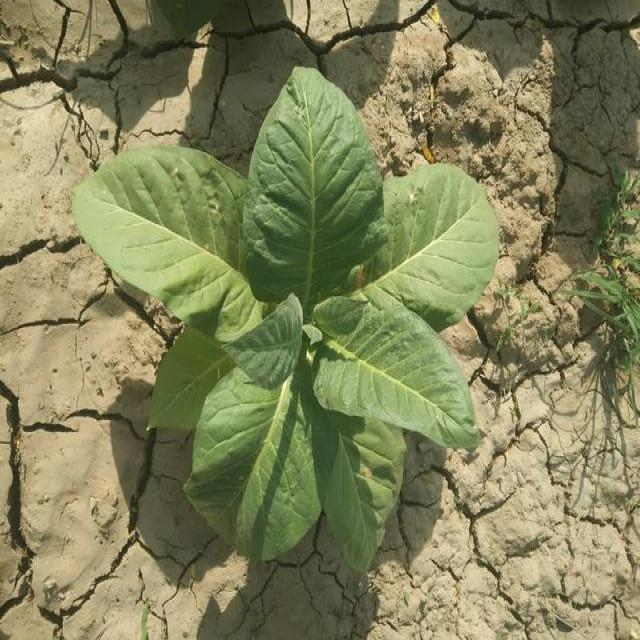crop: (74, 66, 506, 570)
